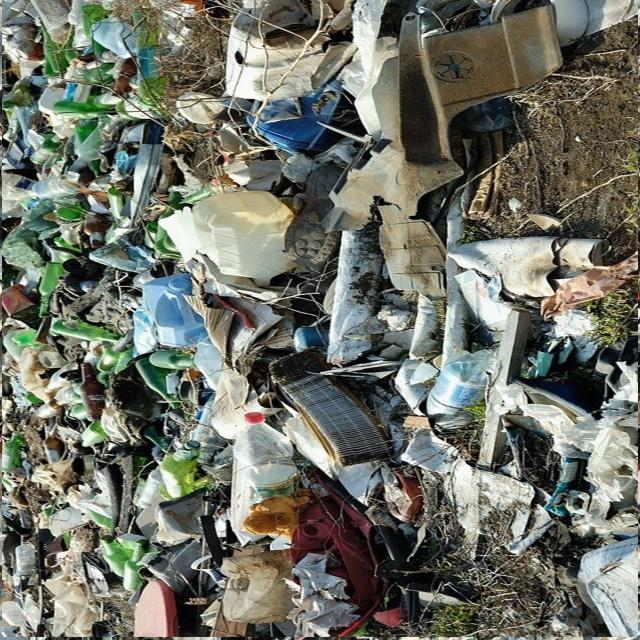garbage: (1, 0, 639, 637)
